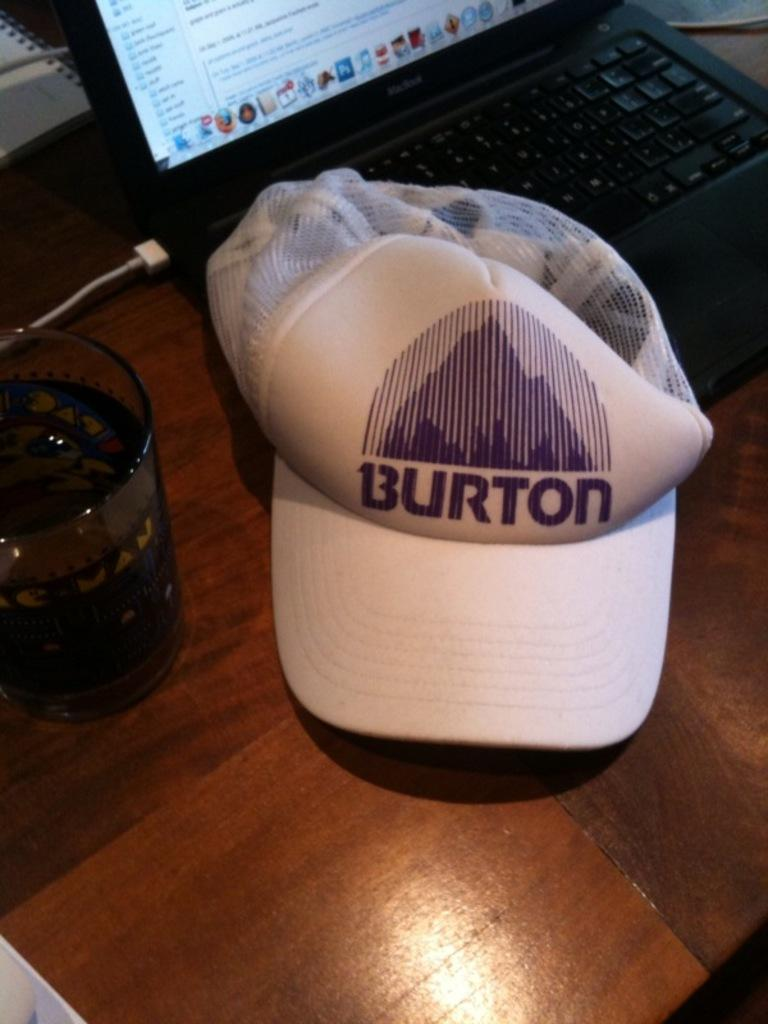Computer-keyboard: (340, 29, 767, 244)
